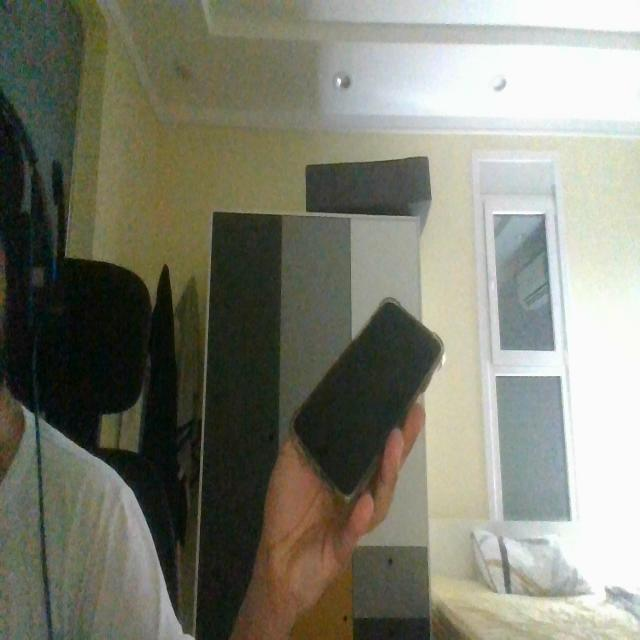Phone: (288, 294, 447, 504)
